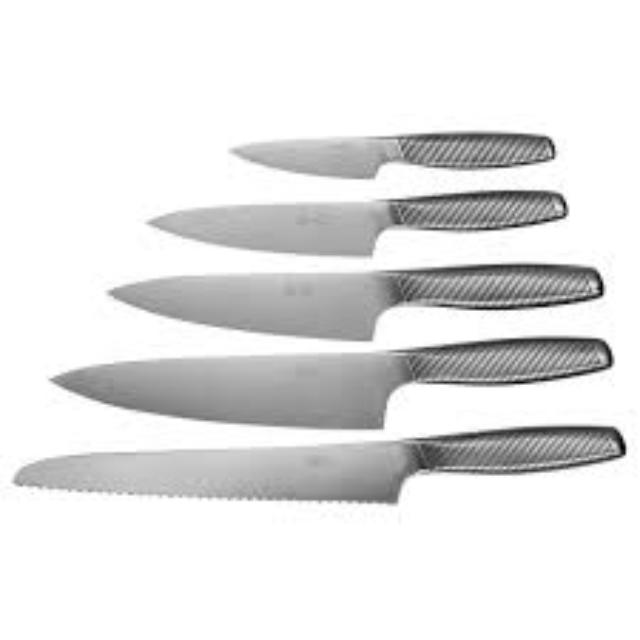knife: (46, 336, 612, 429), (12, 424, 626, 504), (105, 262, 602, 342), (146, 188, 566, 256), (226, 128, 554, 180)
